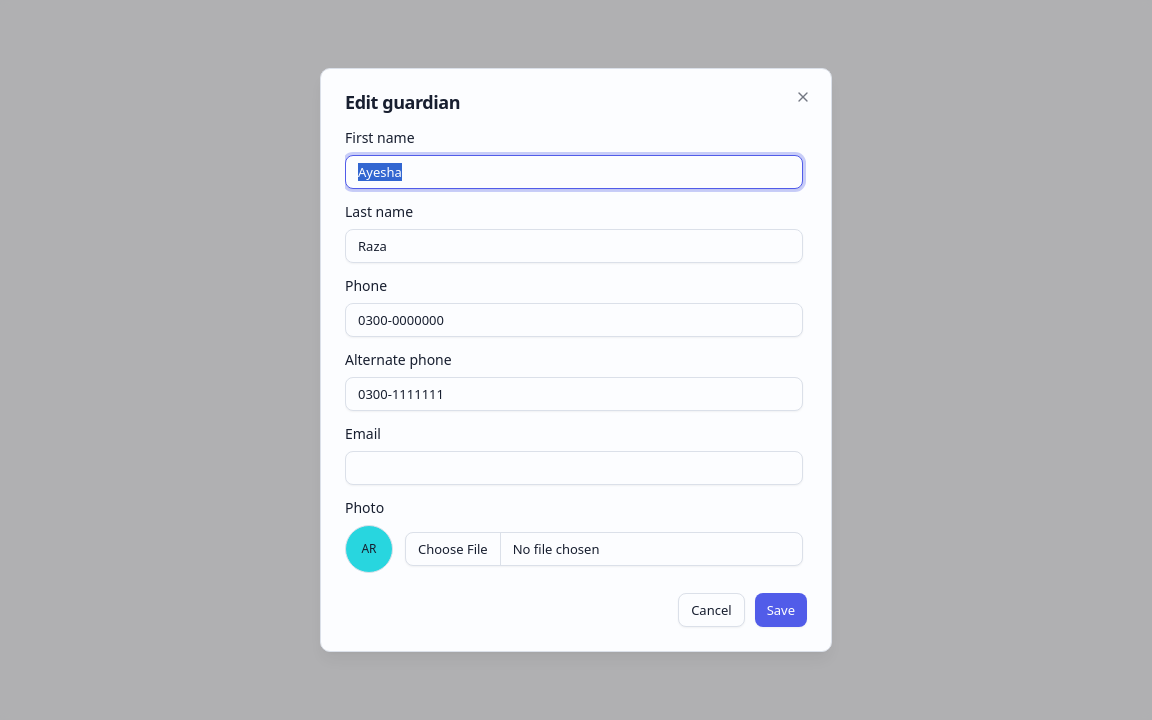
Test case: GuardianFormDialog › shows a server field error for alt_phone instead of failing silently
Click the button "Save". click: click(781, 610)
box: [755,593,807,627]
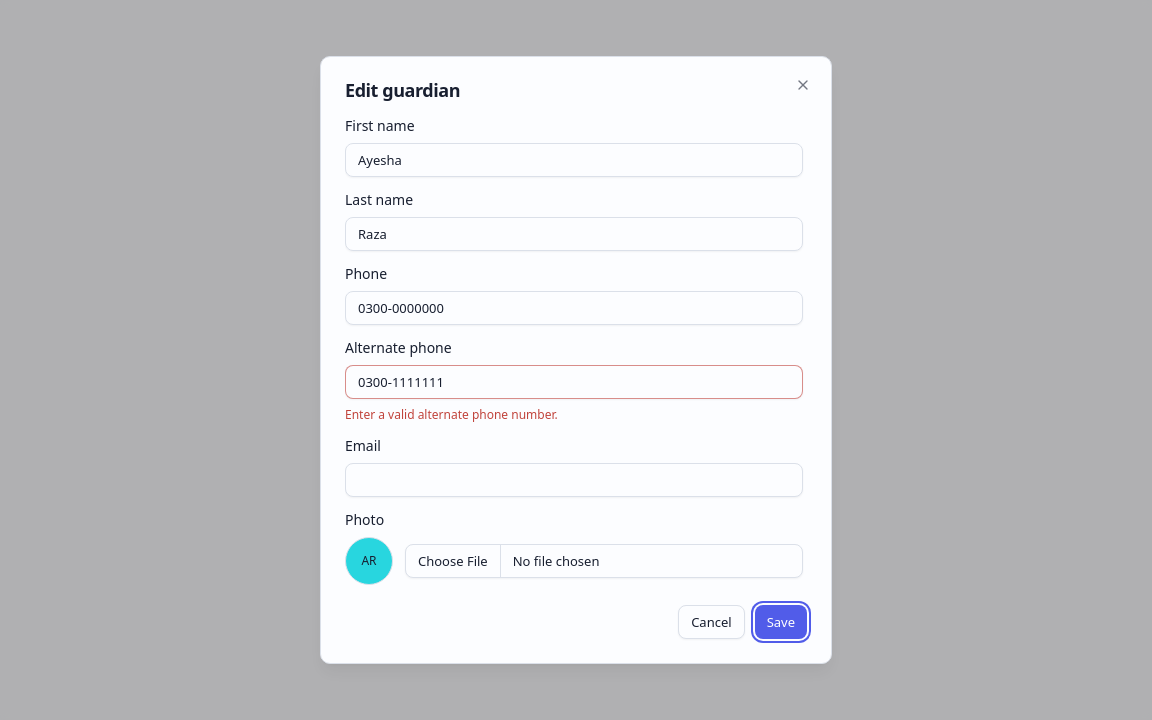
Expected: the text "Enter a valid alternate phone number." is shown, [345,406,558,423]
